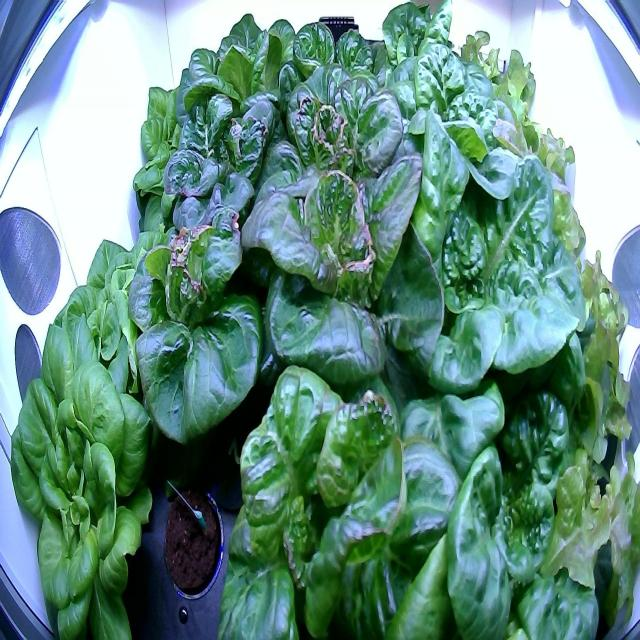Ready: (204, 356, 474, 634), (377, 358, 612, 639), (376, 118, 592, 413), (234, 124, 457, 404), (2, 315, 168, 637), (119, 204, 274, 456), (29, 217, 185, 446), (376, 44, 542, 230), (262, 51, 419, 202), (154, 85, 290, 232), (174, 4, 314, 133), (126, 61, 230, 210), (272, 8, 394, 116), (377, 0, 490, 84)
pod: (152, 468, 228, 608)
